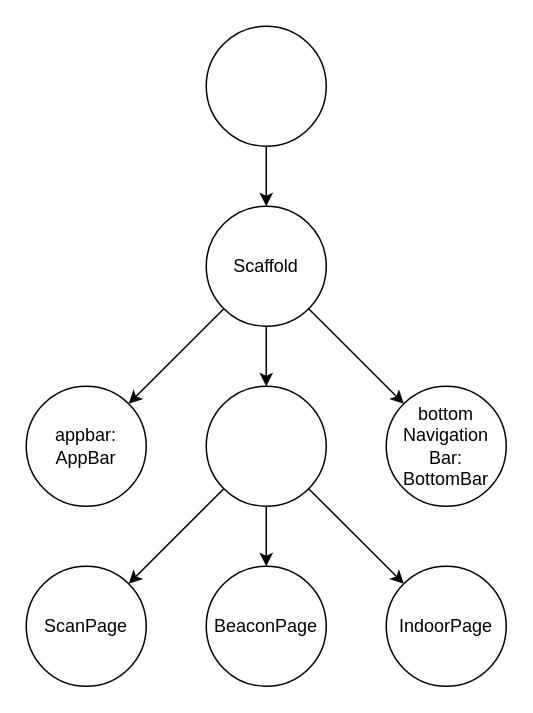
Some shapes in this 533 by 713 pixel diagram are drawn without their labels. The shapes that lost their labels are listed below. From the top down, each one's box as (x1, y1, x2, y2) in pixels, then its label:
(205, 25, 326, 146): HomeScreen
(205, 385, 326, 506): Body: PageView
